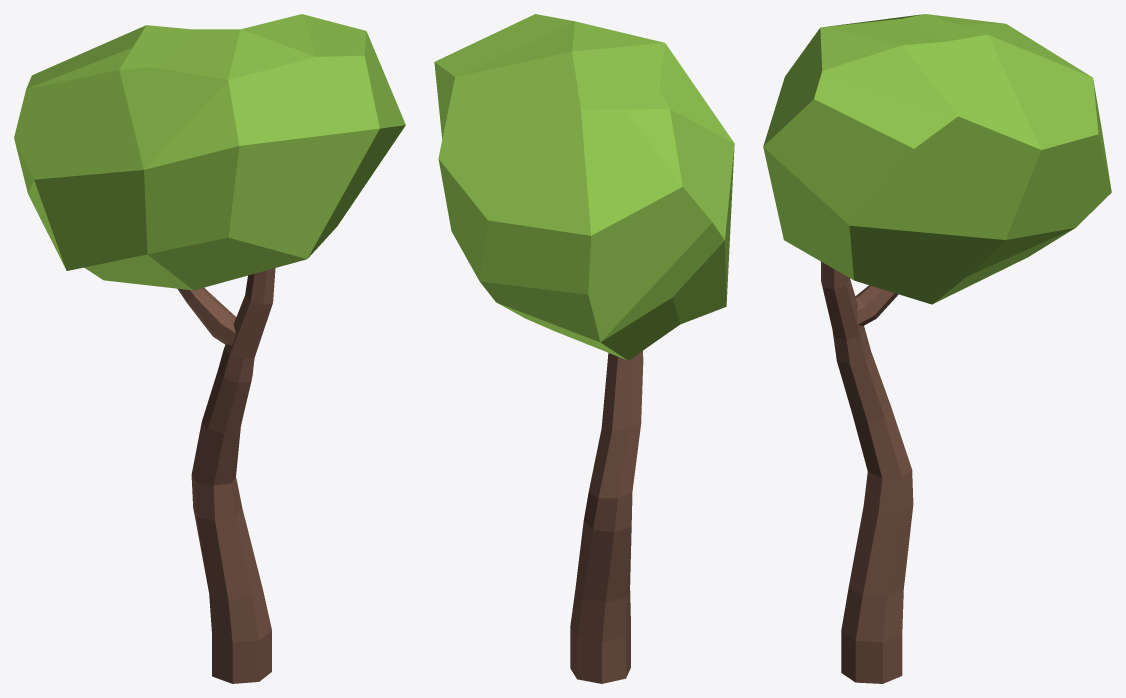
Rendered from low_poly_tree_3.glb.
3 renders of one model, left to right at view 1: azimuth 30°, elevation 25°; view 2: azimuth 150°, elevation 25°; view 3: azimuth 270°, elevation 25°, orthographic.
Parts seen in each view (by area): view 1: group2113862217, group50724889, group1072121766; view 2: group2113862217, group50724889; view 3: group2113862217, group50724889, group1072121766.
Boxes of the visible parts, bbox=[...] form: group2113862217: bbox=[14, 14, 405, 290]; group50724889: bbox=[191, 268, 275, 683]; group1072121766: bbox=[177, 287, 236, 345]; group2113862217: bbox=[434, 14, 734, 360]; group50724889: bbox=[570, 351, 643, 683]; group2113862217: bbox=[763, 14, 1111, 304]; group50724889: bbox=[821, 261, 913, 683]; group1072121766: bbox=[855, 285, 898, 325].
Size of the model in its own units: 0.596 by 1.11 by 0.5523.
